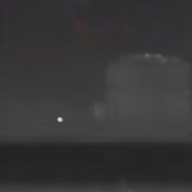Target: (57, 116, 64, 123)
